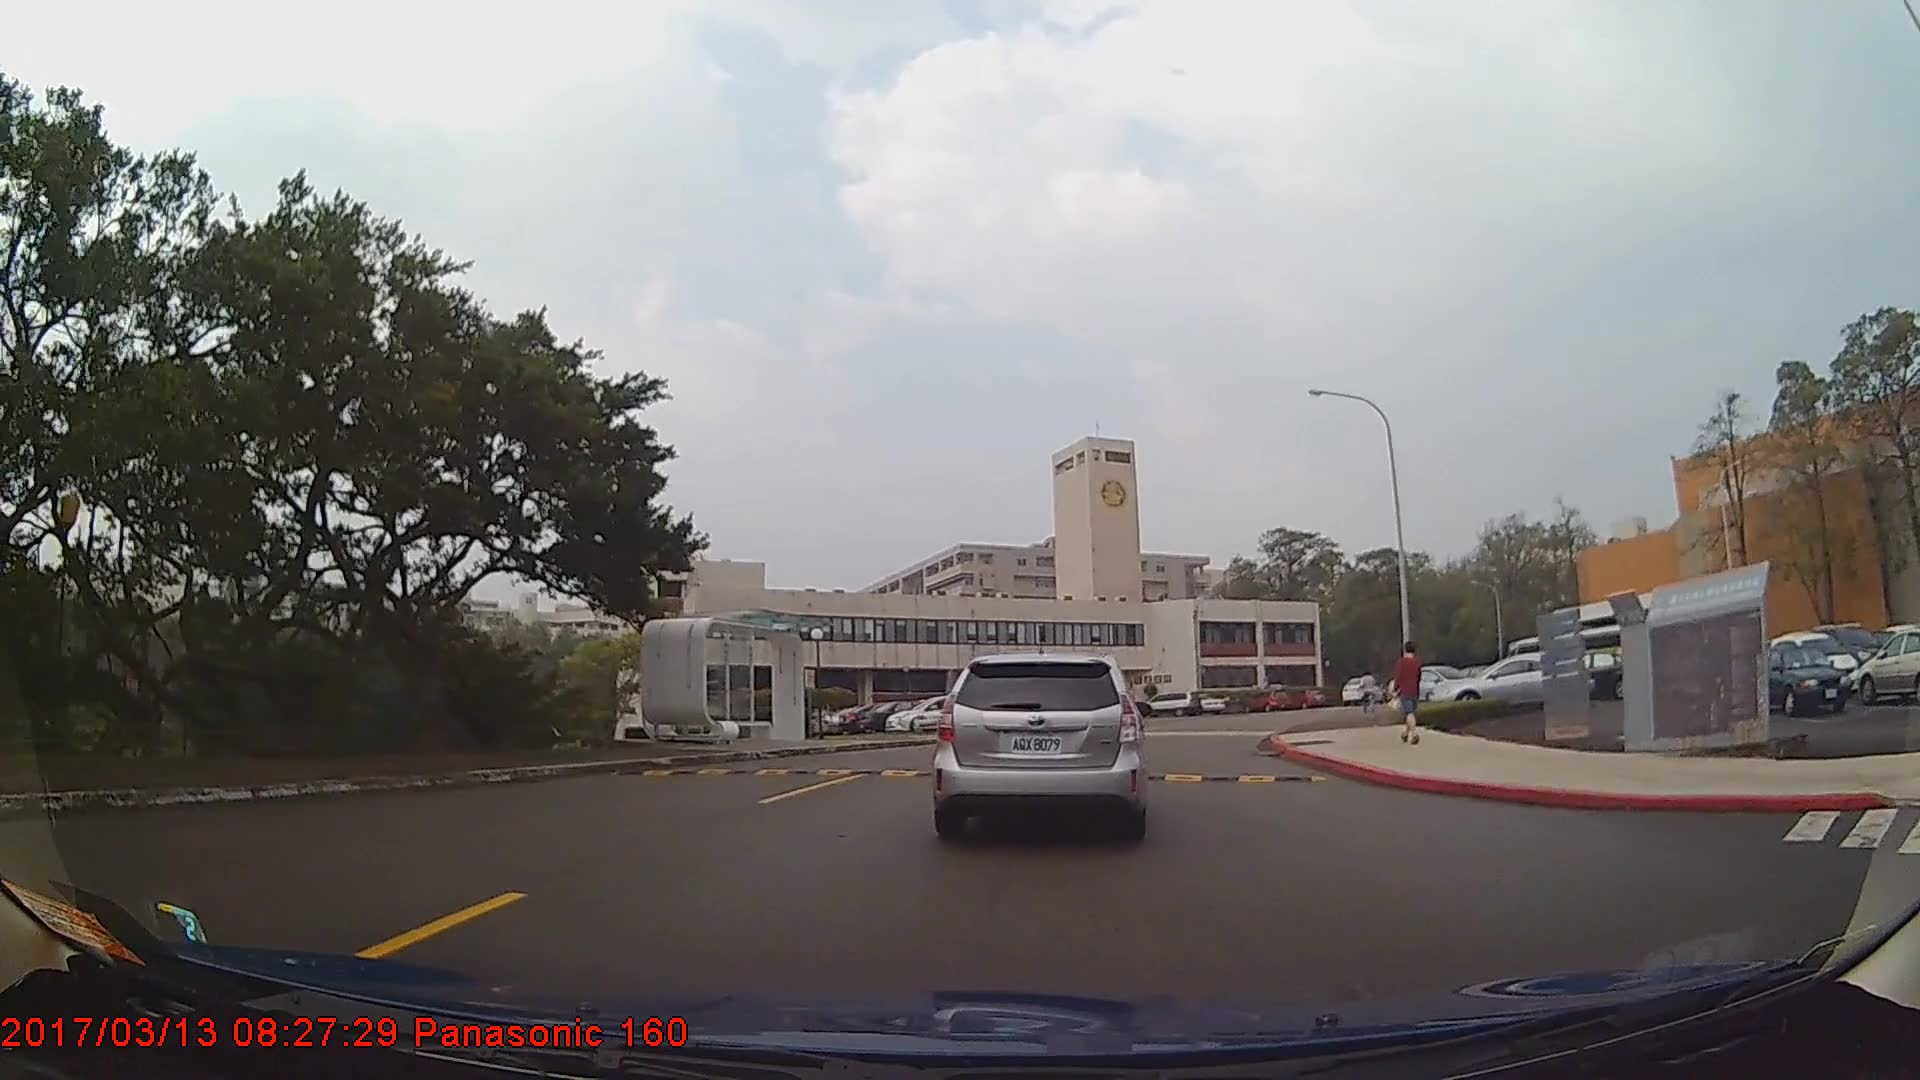pedestrian: (1393, 646, 1425, 751), (1357, 665, 1382, 714)
vehicle: (933, 649, 1142, 839), (1425, 651, 1591, 710), (1749, 642, 1850, 716), (1854, 627, 1920, 706), (1141, 690, 1204, 717), (1339, 675, 1379, 707)
